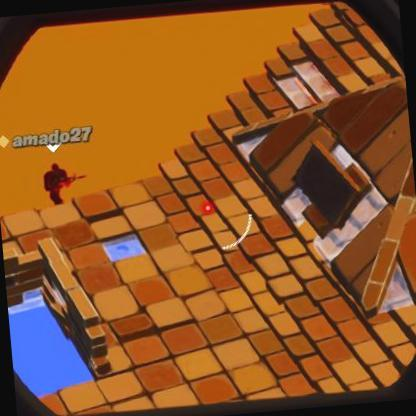person: (42, 162, 70, 206)
